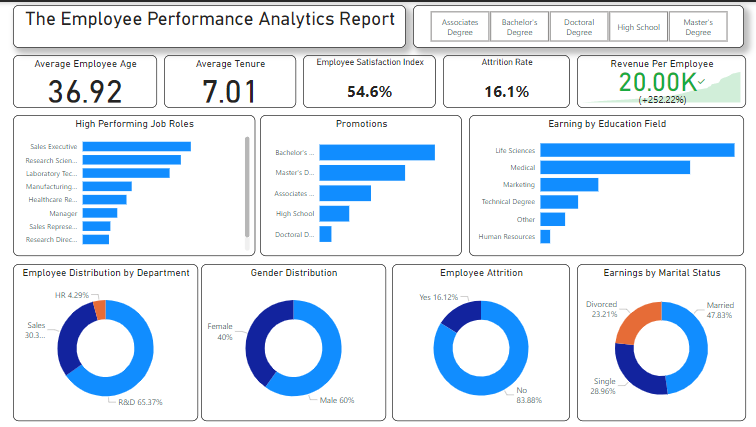

What the dashboard file says about the page in this screenshot:
{"tool":"powerbi","page":{"name":"Page 1","canvas":[1280,720],"ordinal":0},"visuals":[{"type":"donutChart","title":"Employee Distribution by Department","fields":{"Category":["HR data.Department"],"Y":["CountNonNull(HR data.emp no)"]},"box":[21.8,440.1,310.8,263.7],"z":0},{"type":"donutChart","title":"Gender Distribution ","fields":{"Y":["CountNonNull(HR data.emp no)"],"Category":["HR data.Gender"]},"box":[337.6,440.1,310.8,263.7],"z":1000},{"type":"card","title":"Average Employee Age","fields":{"Values":["HR data.Average Age"]},"box":[21.8,89,241.9,89],"z":2000},{"type":"card","title":"Average Tenure","fields":{"Values":["HR data.Averagge Tenure"]},"box":[275.5,89,221.7,89],"z":3000},{"type":"textbox","title":"Employee Satisfaction Index","box":[509,89,223.4,89],"z":4000},{"type":"textbox","title":"Attrition Rate","box":[744.1,89,213.3,89],"z":5000},{"type":"donutChart","title":"Employee Attrition","fields":{"Y":["CountNonNull(HR data.emp no)"],"Category":["HR data.Attrition"]},"box":[658.5,440.1,299,263.7],"z":6000},{"type":"kpi","title":"Revenue Per Employee","fields":{"Indicator":["HR data.Revenue Per Emp"],"TrendLine":["HR data.Monthly Income"],"Goal":["Sum(HR data.Monthly Rate)"]},"box":[969.2,89,283.9,89],"z":7000},{"type":"donutChart","title":"Earnings by Marital Status","fields":{"Y":["Sum(HR data.Monthly Income)"],"Category":["HR data.Marital Status"]},"box":[969.2,440.1,283.9,263.7],"z":8000},{"type":"barChart","title":"High Performing  Job Roles","fields":{"Y":["Sum(HR data.Performance Rating)"],"Category":["HR data.Job Role"]},"box":[21.8,189.8,406.5,236.9],"z":9000},{"type":"barChart","title":"Promotions","fields":{"Category":["HR data.Education"],"Y":["Sum(HR data.Years Since Last Promotion)"]},"box":[436.7,189.8,339.3,236.9],"z":10000},{"type":"barChart","title":"Earning by Education Field","fields":{"Y":["Sum(HR data.Monthly Income)"],"Category":["HR data.Education Field"]},"box":[787.8,189.8,461.9,236.9],"z":11000},{"type":"textbox","title":"The Employee Performance Analytics  Report","box":[21.8,5,660.2,72.2],"z":12000},{"type":"slicer","fields":{"Values":["HR data.Education"]},"box":[693.8,5,556,72.2],"z":13000}]}

Visuals, with their boxes in screenshot pixels (x1, y1, x2, y2), scaled from the page's 1280x720 canvas onto the 756x427 screenshot:
"Employee Distribution by Department" donutChart: 13, 261, 196, 417
"Gender Distribution " donutChart: 199, 261, 383, 417
"Average Employee Age" card: 13, 53, 156, 106
"Average Tenure" card: 163, 53, 294, 106
"Employee Satisfaction Index" textbox: 301, 53, 433, 106
"Attrition Rate" textbox: 439, 53, 565, 106
"Employee Attrition" donutChart: 389, 261, 566, 417
"Revenue Per Employee" kpi: 572, 53, 740, 106
"Earnings by Marital Status" donutChart: 572, 261, 740, 417
"High Performing  Job Roles" barChart: 13, 113, 253, 253
"Promotions" barChart: 258, 113, 458, 253
"Earning by Education Field" barChart: 465, 113, 738, 253
"The Employee Performance Analytics  Report" textbox: 13, 3, 403, 46
slicer - HR data.Education: 410, 3, 738, 46
